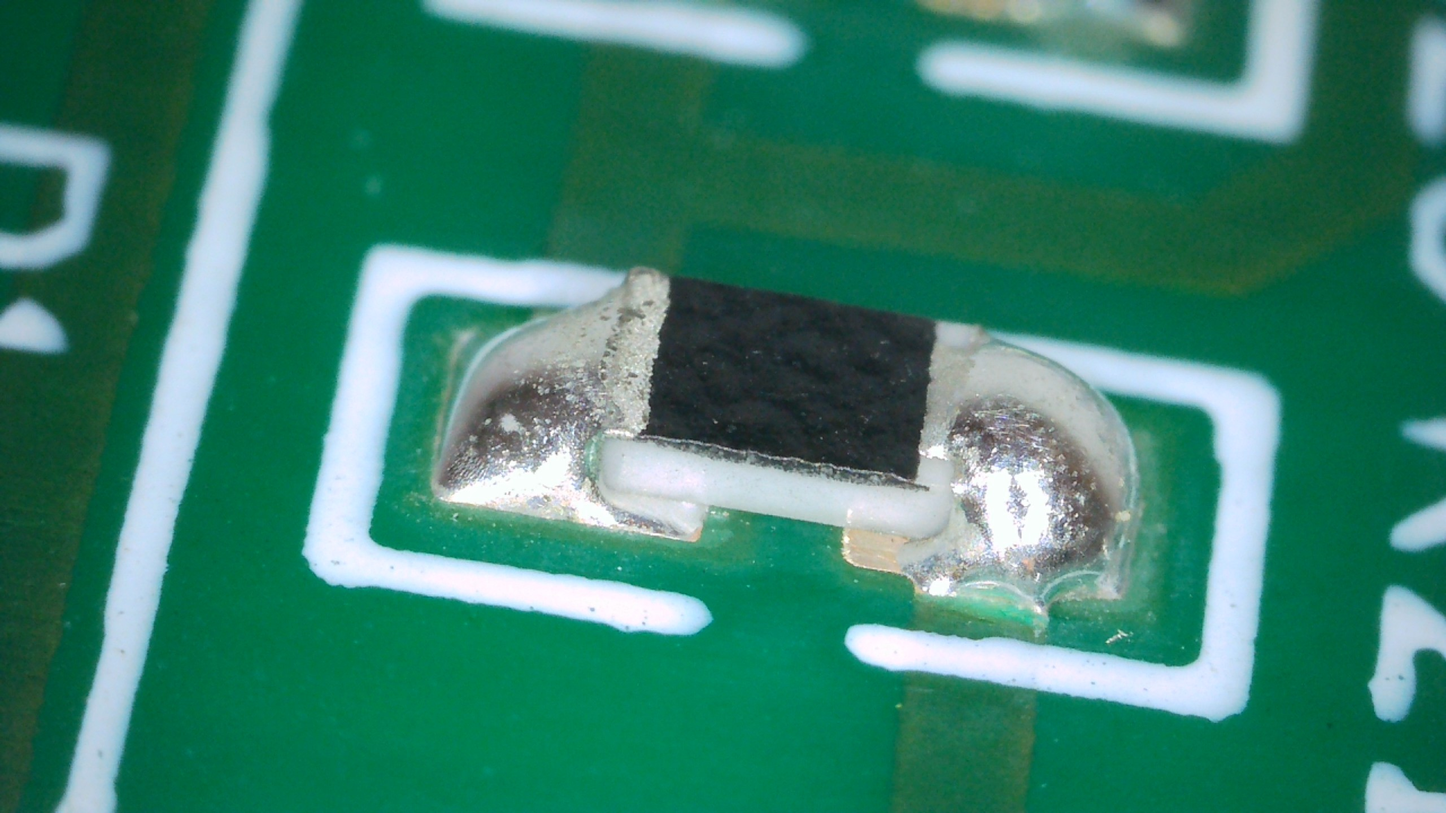NG: (899, 321, 1140, 606)
OK: (435, 266, 668, 529)
